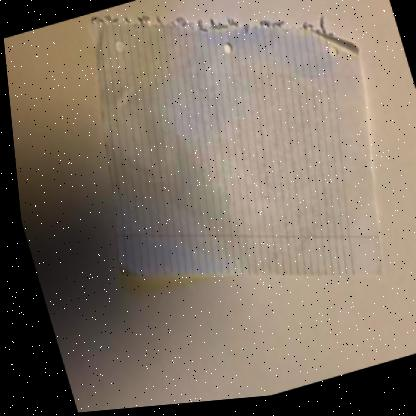Paper: (92, 18, 374, 279)
